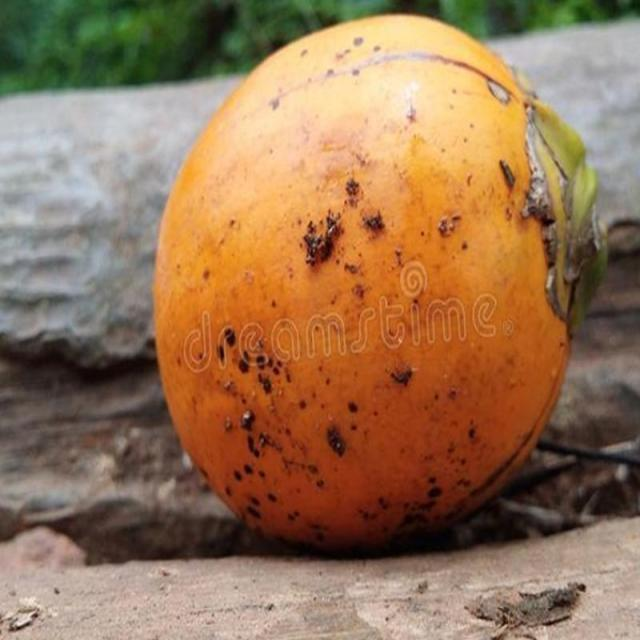good: (151, 14, 607, 560)
